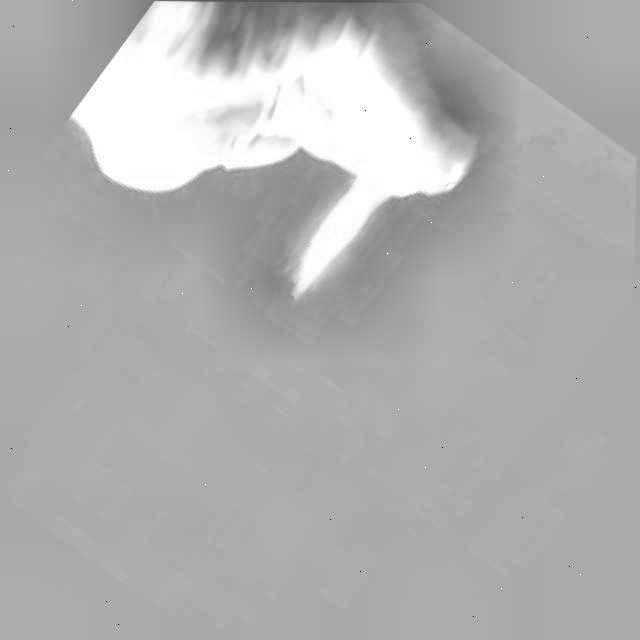Fire: (251, 113, 435, 339)
